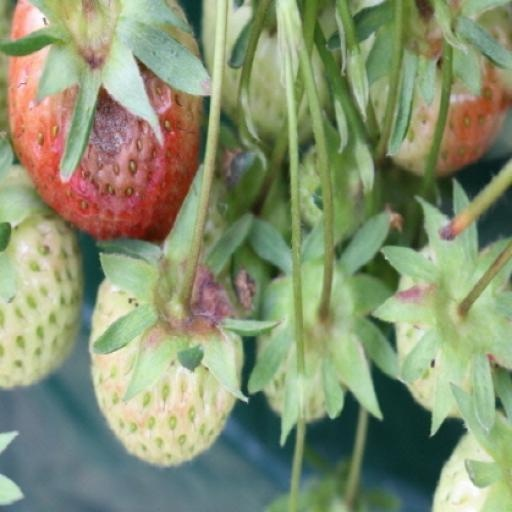Gray Mold: (336, 56, 444, 225)
